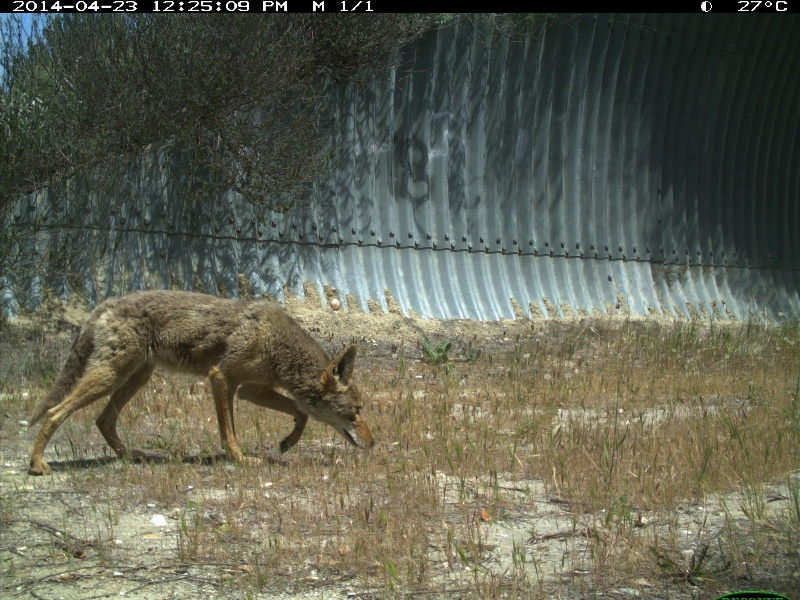coyote: (21, 291, 378, 469)
